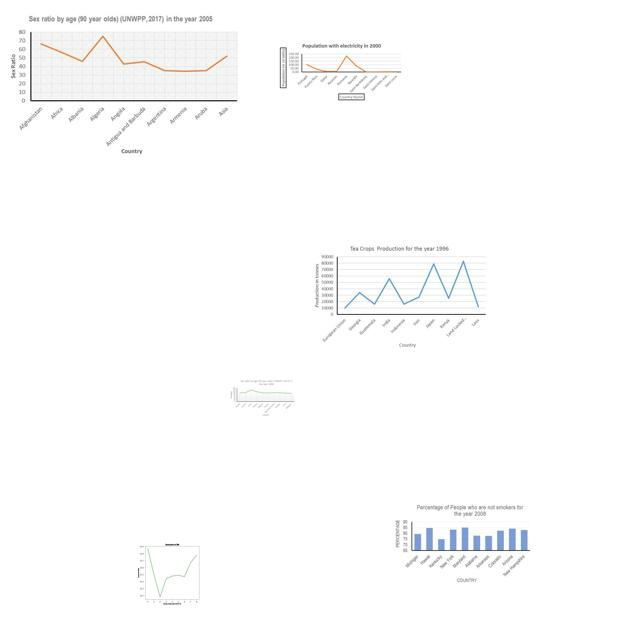Graph: (2, 13, 242, 156), (310, 244, 488, 349), (393, 502, 533, 585), (278, 40, 405, 104), (121, 538, 221, 607), (229, 379, 295, 417)
